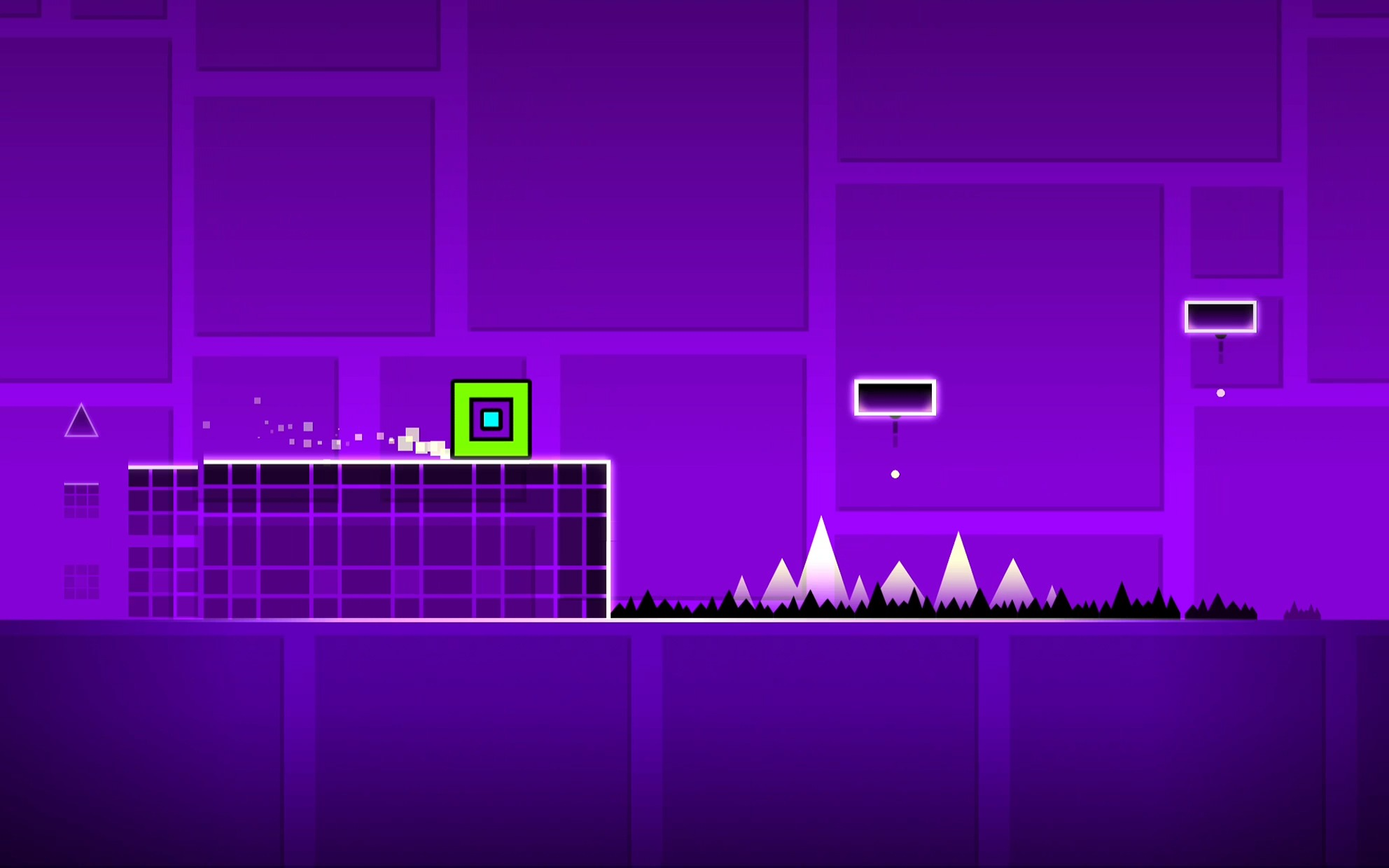Block2: (120, 461, 615, 619)
Block3: (854, 378, 936, 416), (1184, 300, 1257, 332)
Player: (449, 379, 531, 458)
Spike: (63, 403, 99, 436)
Spike2: (619, 584, 1319, 622)
